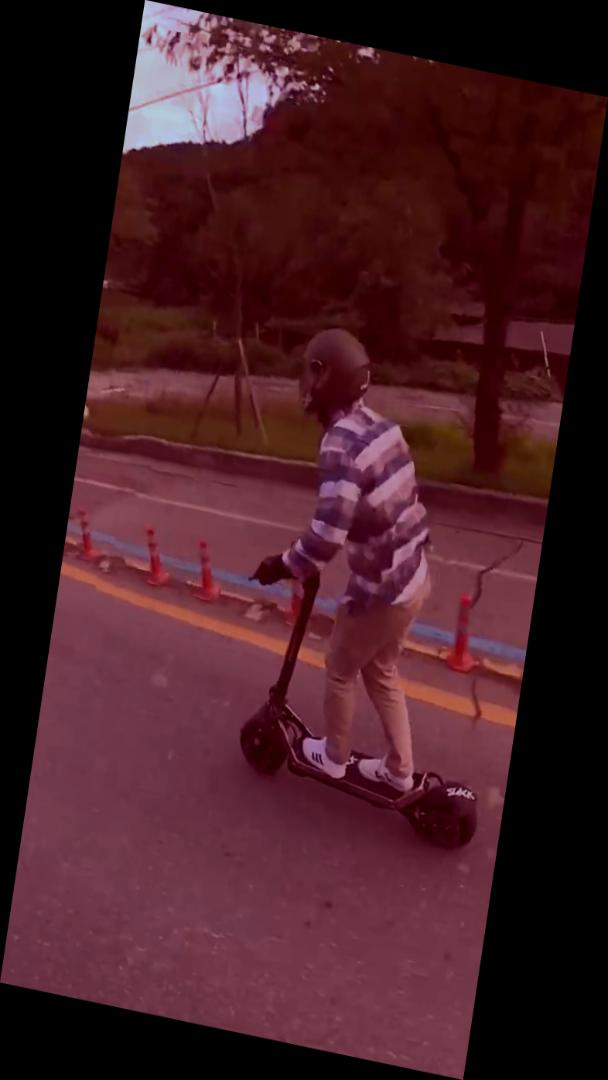helmet: (212, 314, 548, 860)
